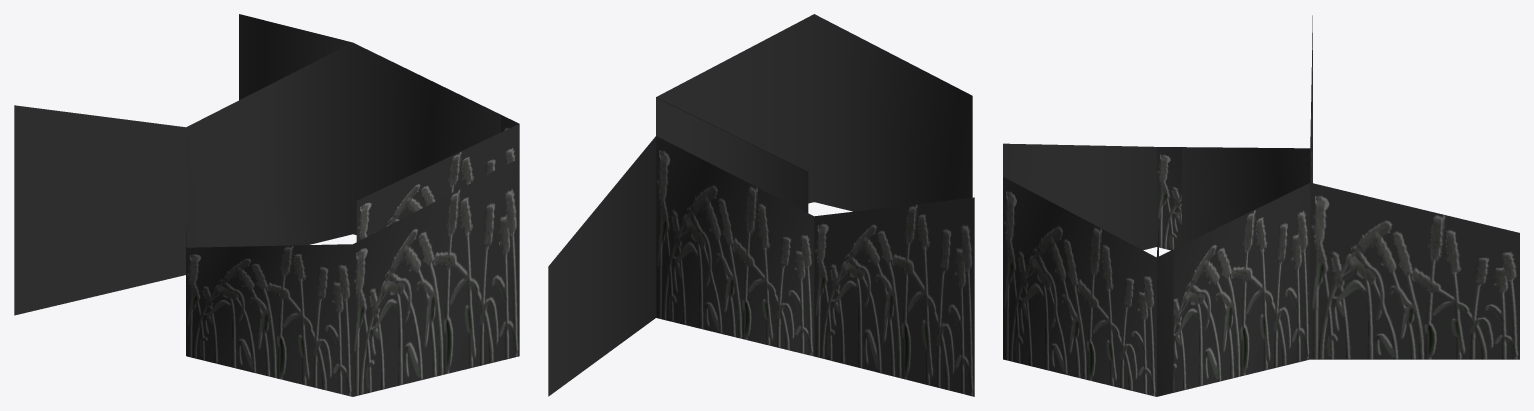
The model's file is Mveg8.glb.
The picture shows the model from 3 angles, left to right: view 1: azimuth 30°, elevation 25°; view 2: azimuth 150°, elevation 25°; view 3: azimuth 270°, elevation 25°; orthographic projection. The views are drawn at different scales.
Visible parts, largest first — view 1: 01 Mesh0.001, 01 Mesh0; view 2: 01 Mesh0.001, 01 Mesh0; view 3: 01 Mesh0, 01 Mesh0.001.
Boxes of the visible parts, left/top/right/bottom form: 01 Mesh0.001: left=14, top=14, right=519, bottom=355; 01 Mesh0: left=14, top=14, right=519, bottom=396; 01 Mesh0.001: left=548, top=14, right=972, bottom=395; 01 Mesh0: left=548, top=14, right=974, bottom=396; 01 Mesh0: left=1003, top=21, right=1519, bottom=396; 01 Mesh0.001: left=1003, top=15, right=1519, bottom=396.
Bounding box in the file's own units: 4.74 × 2.26 × 5.47.
2 materials, 1 textured.
